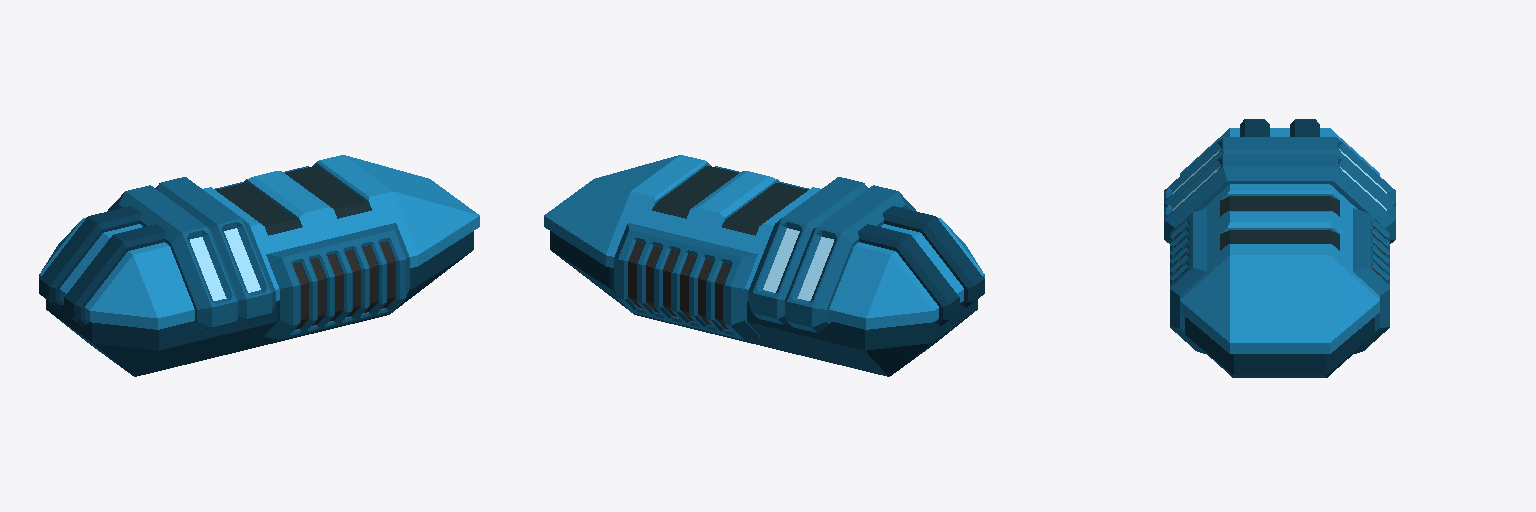
Rendered from Spacestation_Structure_Cockpit_Model_A.obj.
The picture shows the model from 3 angles: view 1: azimuth 30°, elevation 25°; view 2: azimuth 150°, elevation 25°; view 3: azimuth 270°, elevation 25°; orthographic projection.
Parts seen in each view (by area): view 1: object8, object3, object14, object13, object12, object6, object7, object10, object1, object2, object11, object4; view 2: object8, object3, object14, object13, object12, object6, object10, object7, object1, object2, object5, object9; view 3: object8, object12, object14, object3, object13, object2, object1.
Part boxes in pixels (x1,y1,x2,y2): object8: (39, 155, 479, 329); object3: (46, 231, 473, 376); object14: (214, 166, 409, 339); object13: (107, 185, 238, 332); object12: (155, 177, 275, 324); object6: (293, 241, 395, 329); object7: (39, 206, 140, 307); object10: (64, 224, 165, 326); object1: (285, 166, 371, 218); object2: (216, 183, 301, 235); object11: (224, 228, 260, 292); object4: (190, 237, 226, 300); object8: (544, 155, 984, 329); object3: (550, 231, 977, 376); object14: (614, 166, 809, 339); object13: (785, 185, 916, 332); object12: (748, 177, 868, 324); object6: (628, 241, 730, 329); object10: (883, 206, 984, 307); object7: (858, 224, 959, 326); object1: (652, 166, 738, 218); object2: (722, 183, 807, 235); object5: (763, 228, 799, 292); object9: (797, 237, 833, 300); object8: (1180, 128, 1379, 353); object12: (1164, 154, 1395, 243); object14: (1170, 208, 1389, 353); object3: (1185, 317, 1374, 377); object13: (1164, 137, 1395, 206); object2: (1220, 196, 1339, 216); object1: (1220, 230, 1339, 250).
Size of the model in its own units: 2.29 by 0.7582 by 1.16.